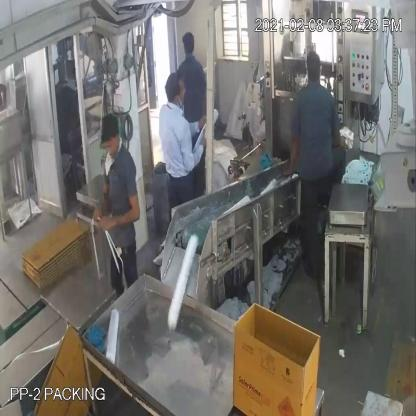no_glove: (99, 194, 145, 234), (280, 129, 300, 177)
